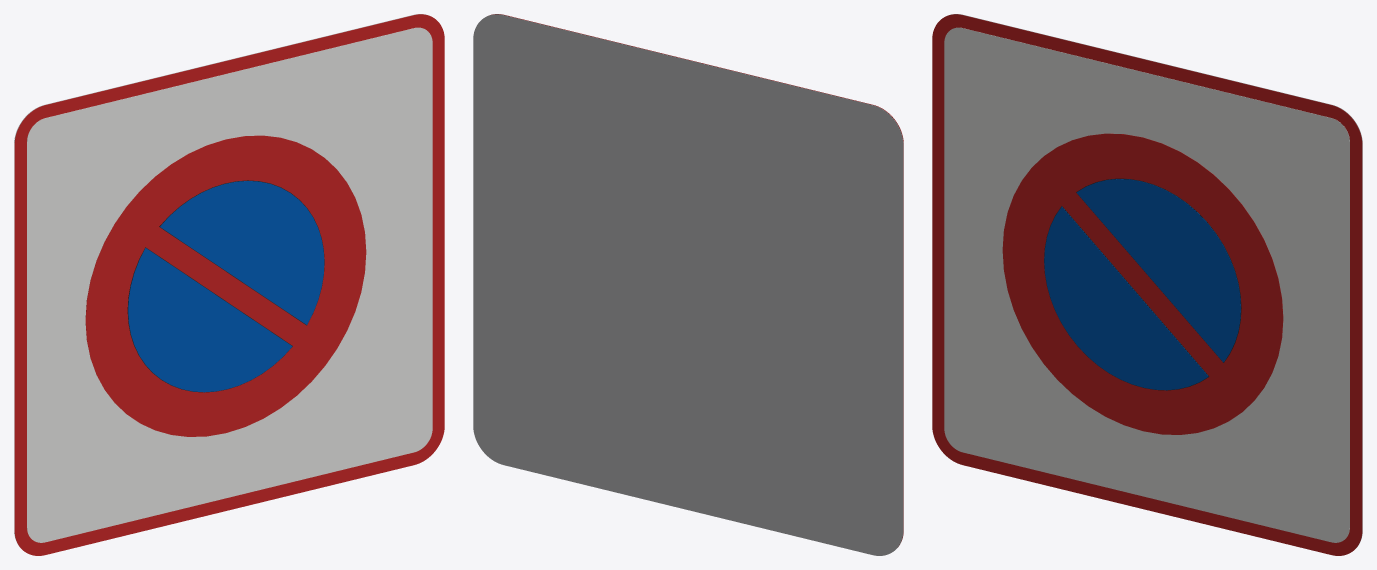
3 views of the same model, side by side, from view 1: azimuth 30°, elevation 25°; view 2: azimuth 150°, elevation 25°; view 3: azimuth 330°, elevation 25° (orthographic).
Visible parts, largest first — view 1: B6b1_p01, B6b1_p02, B6b1_p00, B6b1_p06, B6b1_p04, B6b1_dos; view 2: B6b1_dos, B6b1_p00; view 3: B6b1_p01, B6b1_p02, B6b1_p00, B6b1_p06, B6b1_p04, B6b1_dos.
Boxes of the visible parts, x1=… form: B6b1_p01: x1=27, y1=27, x2=432, y2=542; B6b1_p02: x1=85, y1=135, x2=366, y2=436; B6b1_p00: x1=14, y1=14, x2=444, y2=555; B6b1_p06: x1=128, y1=248, x2=292, y2=392; B6b1_p04: x1=160, y1=181, x2=324, y2=324; B6b1_dos: x1=14, y1=14, x2=426, y2=546; B6b1_dos: x1=473, y1=14, x2=903, y2=555; B6b1_p00: x1=491, y1=14, x2=903, y2=546; B6b1_p01: x1=944, y1=27, x2=1349, y2=542; B6b1_p02: x1=1002, y1=133, x2=1283, y2=434; B6b1_p00: x1=932, y1=14, x2=1362, y2=555; B6b1_p06: x1=1044, y1=206, x2=1208, y2=390; B6b1_p04: x1=1076, y1=179, x2=1240, y2=362; B6b1_dos: x1=950, y1=14, x2=1362, y2=546.
Bounding box in the file's own units: 0.85 × 0.8498 × 0.0043.
